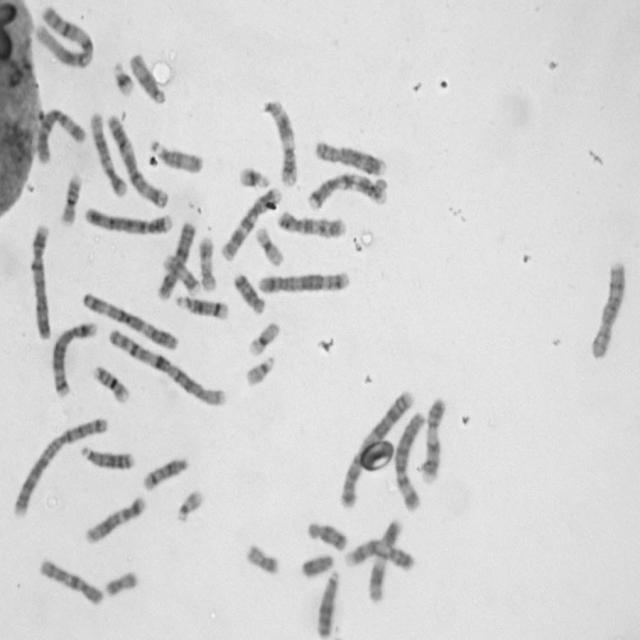A1: (106, 328, 229, 408), (34, 6, 98, 72)
A2: (12, 415, 109, 519), (340, 388, 414, 510)
A3: (107, 112, 170, 209), (82, 292, 180, 352)
B4: (28, 226, 57, 342), (84, 206, 175, 238)
B5: (51, 322, 98, 398), (257, 271, 351, 297)
C10: (38, 557, 106, 608), (277, 210, 348, 238)
C11: (264, 100, 299, 186), (368, 517, 402, 603)
C12: (90, 112, 130, 200), (84, 495, 148, 546)
C6: (393, 410, 426, 513), (36, 106, 88, 166)
C7: (221, 186, 284, 262), (308, 172, 390, 210)
C8: (589, 260, 627, 360), (315, 140, 387, 177)
C9: (420, 395, 447, 484), (346, 539, 417, 572)
D13: (315, 568, 340, 637), (79, 447, 136, 471)
D14: (141, 456, 190, 494), (174, 294, 231, 322)
D15: (128, 53, 169, 107), (149, 138, 204, 175)
E16: (92, 365, 132, 406), (58, 174, 82, 226)
E17: (163, 252, 200, 297), (197, 236, 219, 292)
E18: (232, 273, 266, 315), (306, 522, 348, 552)
F19: (247, 320, 279, 359), (255, 226, 284, 268)
F20: (244, 544, 280, 574), (105, 570, 140, 598)
G21: (111, 61, 135, 97), (238, 165, 270, 189)
G22: (244, 352, 278, 389), (173, 489, 206, 524)
X: (155, 222, 195, 303)
Y: (300, 553, 336, 580)
